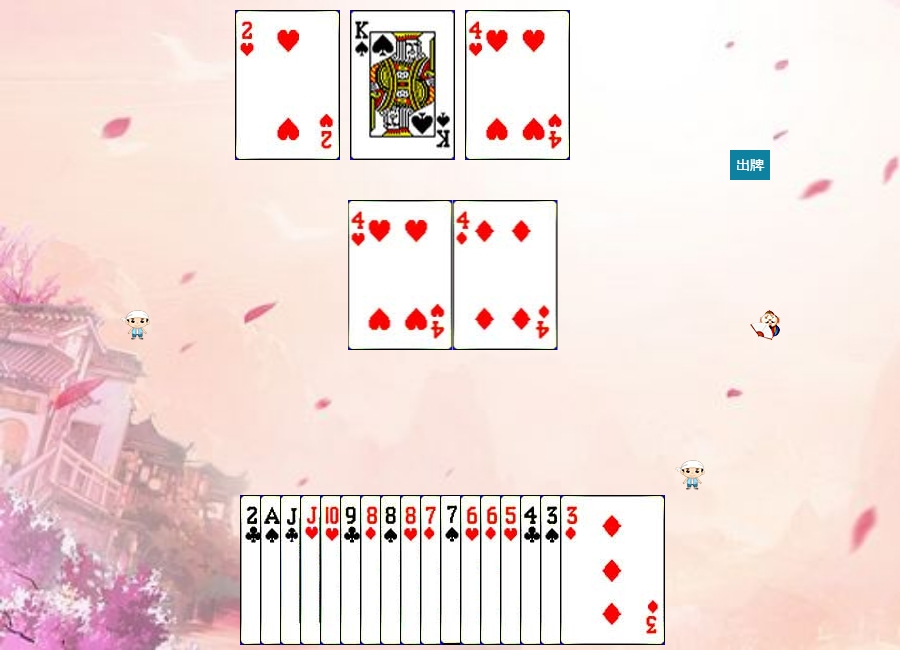10~3: (320, 495, 425, 645)
11~2: (280, 495, 385, 645)
11~3: (300, 495, 405, 645)
13~4: (350, 10, 455, 160)
14~4: (260, 495, 365, 645)
15~2: (240, 495, 345, 645)
15~3: (235, 10, 340, 160)
3~1: (560, 495, 665, 645)
3~4: (540, 495, 645, 645)
4~1: (453, 200, 558, 350)
4~2: (520, 495, 625, 645)
4~3: (465, 10, 570, 160), (348, 200, 453, 350)
5~3: (500, 495, 605, 645)
6~1: (480, 495, 585, 645)
6~3: (460, 495, 565, 645)
7~1: (420, 495, 525, 645)
7~4: (440, 495, 545, 645)
8~1: (360, 495, 465, 645)
8~3: (400, 495, 505, 645)
8~4: (380, 495, 485, 645)
9~2: (340, 495, 445, 645)
